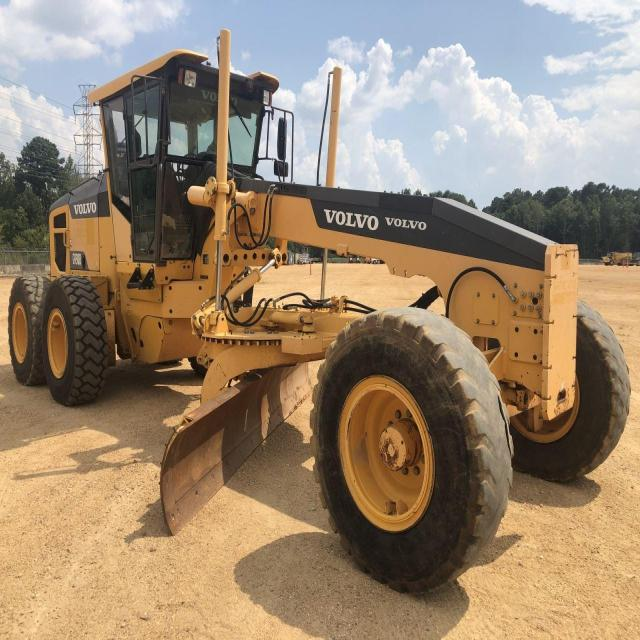buldozerpayloadergrader: (9, 42, 639, 615)
